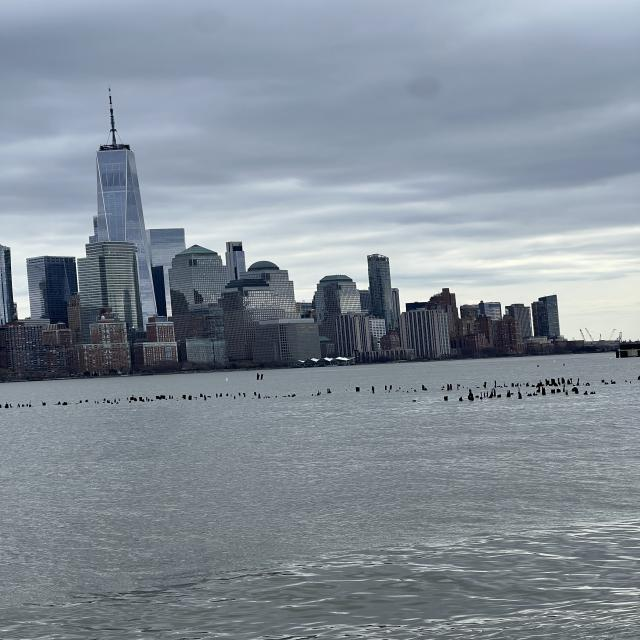WTC: (92, 84, 146, 243)
